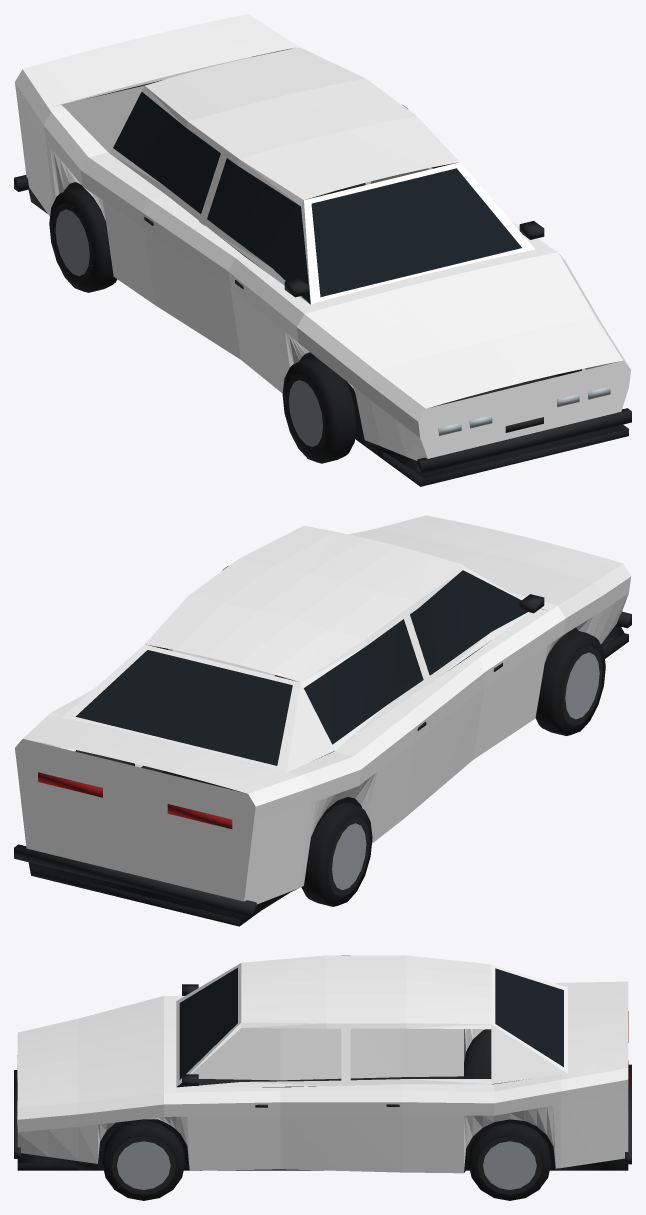
File: morel_nave.glb
3 renders of one model, top to bottom at view 1: azimuth 30°, elevation 25°; view 2: azimuth 150°, elevation 25°; view 3: azimuth 270°, elevation 25°, orthographic. The views are drawn at different scales.
Visible parts, largest first — view 1: Body_Paint, Body_Details, Mount_FrontLeft_Wheel_Details, Mount_RearLeft_Wheel_Details; view 2: Body_Paint, Body_Details, Mount_FrontLeft_Wheel_Details, Mount_RearLeft_Wheel_Details; view 3: Body_Paint, Body_Details, Mount_FrontRight_Wheel_Details, Mount_RearRight_Wheel_Details.
Part boxes in pixels (x1,y1,x2,y2): Body_Paint: [15, 14, 630, 460]; Body_Details: [14, 80, 631, 486]; Mount_FrontLeft_Wheel_Details: [282, 357, 356, 463]; Mount_RearLeft_Wheel_Details: [49, 187, 117, 292]; Body_Paint: [15, 515, 630, 904]; Body_Details: [14, 570, 631, 926]; Mount_FrontLeft_Wheel_Details: [535, 629, 605, 735]; Mount_RearLeft_Wheel_Details: [301, 802, 372, 906]; Body_Paint: [17, 955, 628, 1173]; Body_Details: [14, 967, 631, 1172]; Mount_FrontRight_Wheel_Details: [102, 1120, 185, 1200]; Mount_RearRight_Wheel_Details: [468, 1123, 551, 1200].
Size of the model in its own units: 1.99 by 1.41 by 4.84.
Materials: 2 (1 with a texture image).
